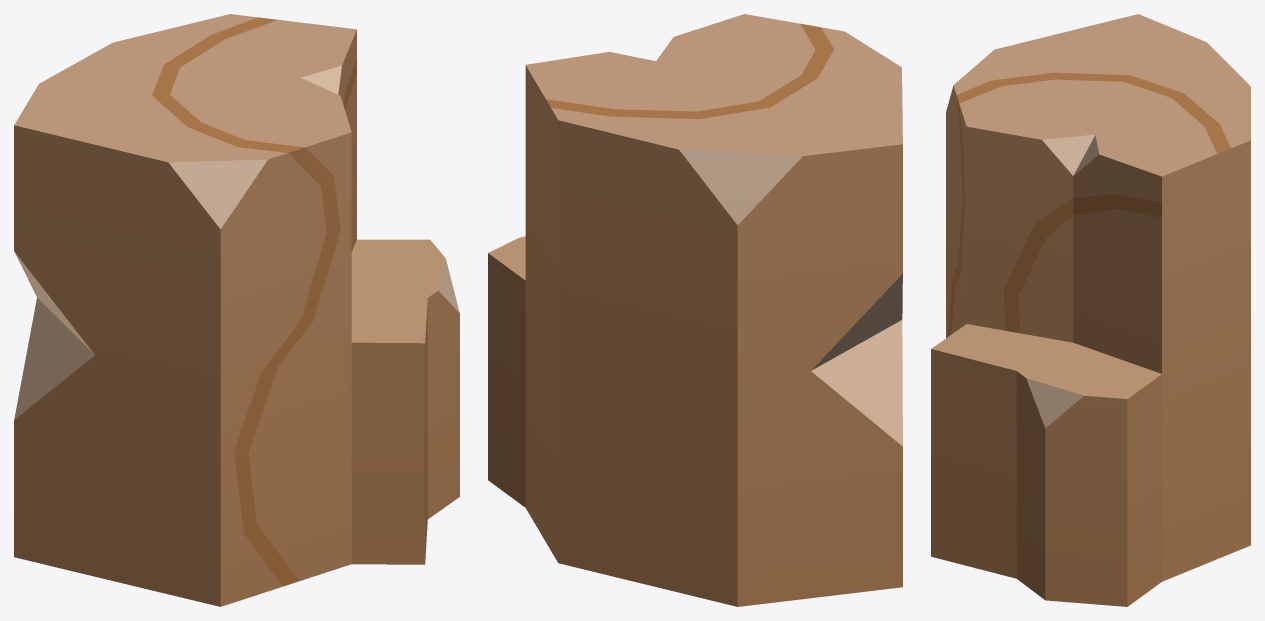
The model's file is ancient-stone-7.glb.
The picture shows the model from 3 angles, left to right: view 1: azimuth 30°, elevation 25°; view 2: azimuth 150°, elevation 25°; view 3: azimuth 270°, elevation 25°; orthographic projection. The views are drawn at different scales.
Parts seen in each view (by area): view 1: ancient stone 7; view 2: ancient stone 7; view 3: ancient stone 7.
Part boxes in pixels (bbox=[...]): ancient stone 7: bbox=[14, 14, 459, 606]; ancient stone 7: bbox=[488, 14, 902, 606]; ancient stone 7: bbox=[931, 14, 1250, 606].
Bounding box in the file's own units: 2.31 × 2.33 × 1.67.
1 material, 1 textured.
